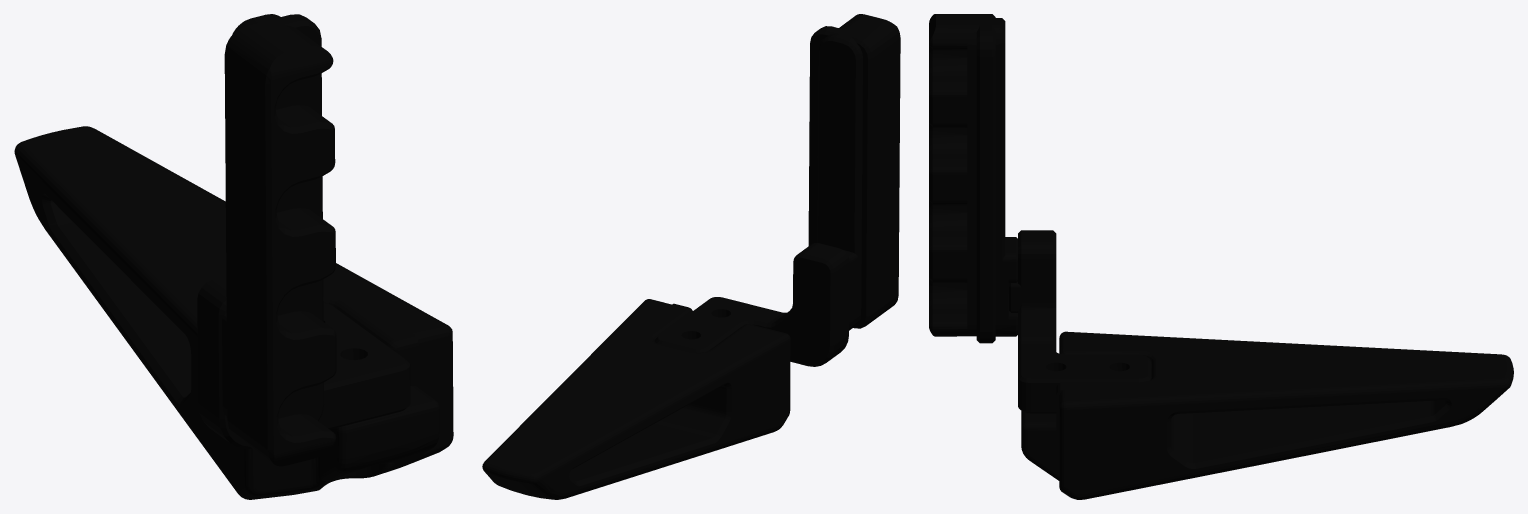
File: left_gripper_finger_link2.obj
The picture shows the model from 3 angles, left to right: view 1: azimuth 30°, elevation 25°; view 2: azimuth 150°, elevation 25°; view 3: azimuth 270°, elevation 25°; orthographic projection. The views are drawn at different scales.
Parts seen in each view (by area): view 1: left_gripper_finger_link2; view 2: left_gripper_finger_link2; view 3: left_gripper_finger_link2.
Boxes of the visible parts, x1,y1,x2,y2 form: left_gripper_finger_link2: (14, 14, 453, 499); left_gripper_finger_link2: (482, 14, 900, 499); left_gripper_finger_link2: (929, 14, 1513, 499).
Bounding box in the file's own units: 0.0376 × 0.0697 × 0.092.
Materials: 1 (1 with a texture image).
